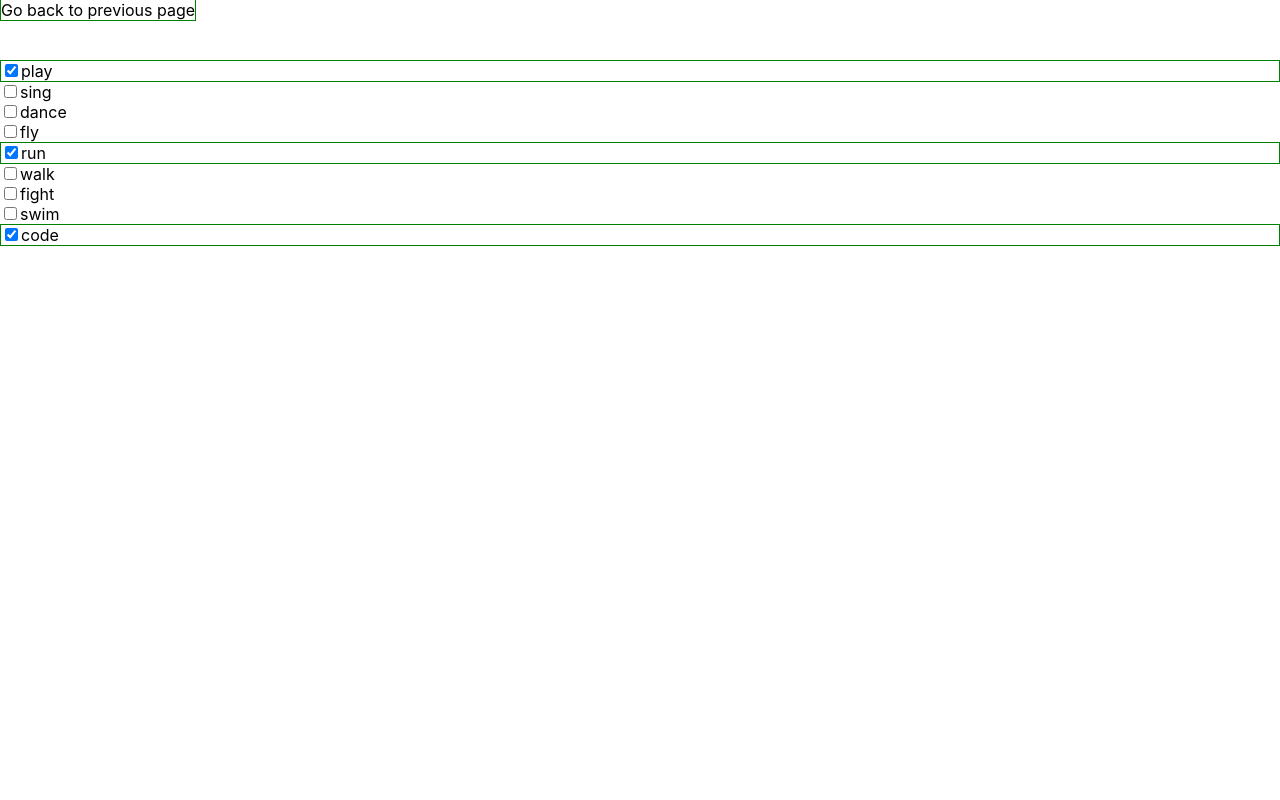
Test: Parent component › clicking back button with changes opens dialog
This screenshot has width=1280, height=800.
Click the checkbox next to "play". click: (12, 70)
box: 5,64 -> 18,77
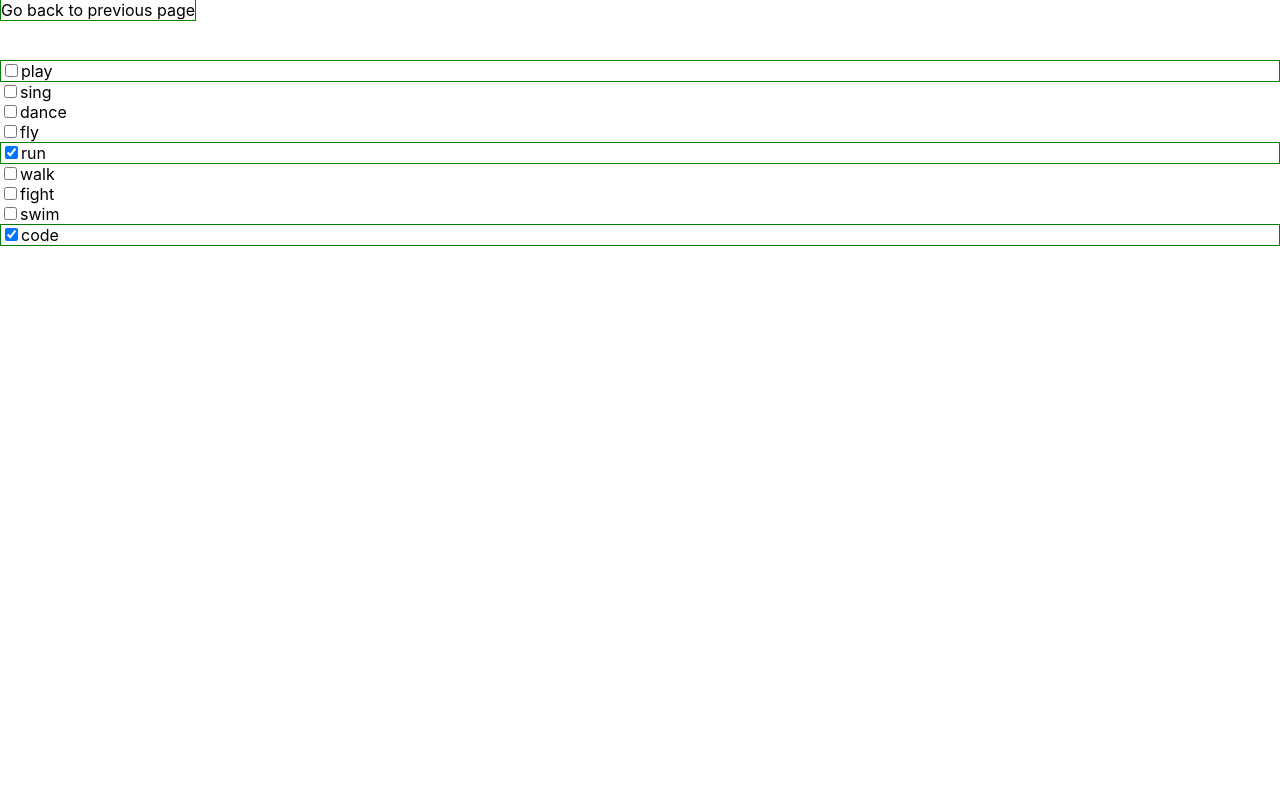
Click the text "Go back to previous page". click: (98, 10)
box: 0,0 -> 196,21
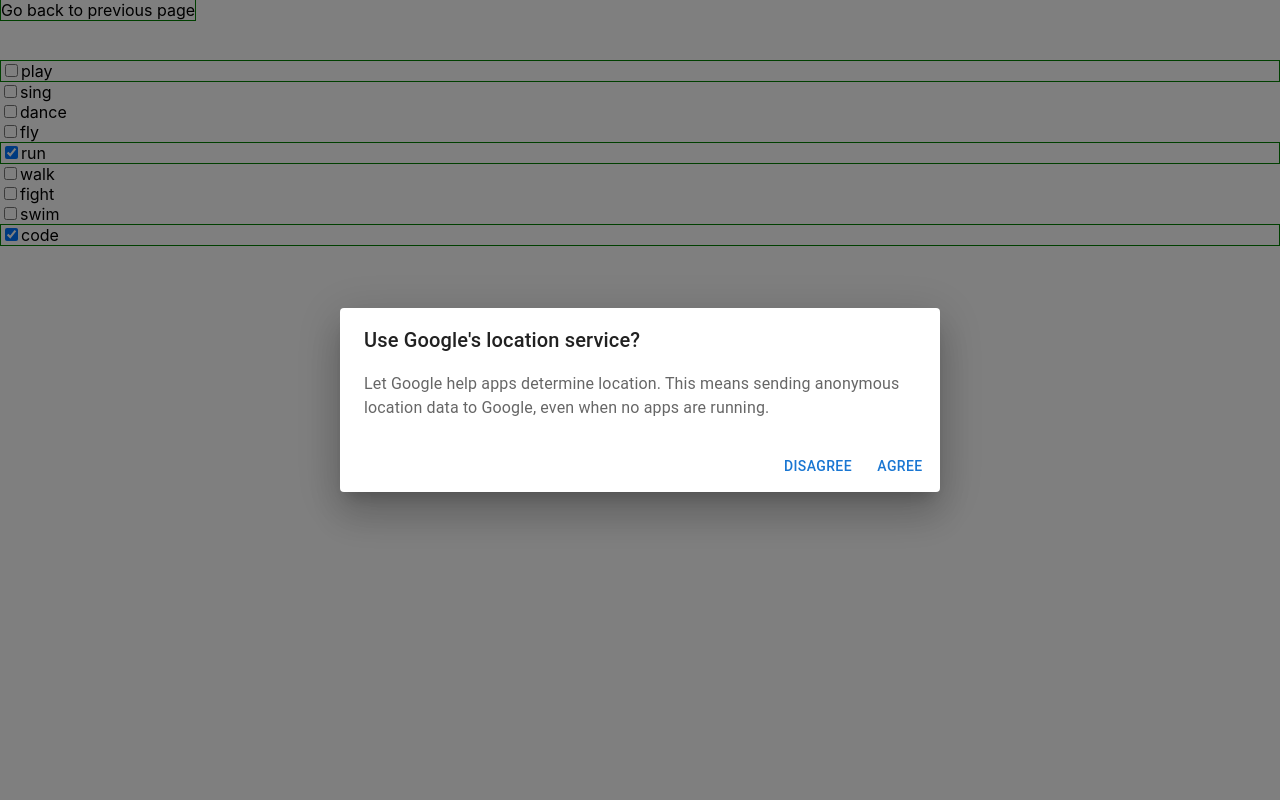
Result: the heading "Use Google's location service?" is shown at 364,328 -> 640,352
